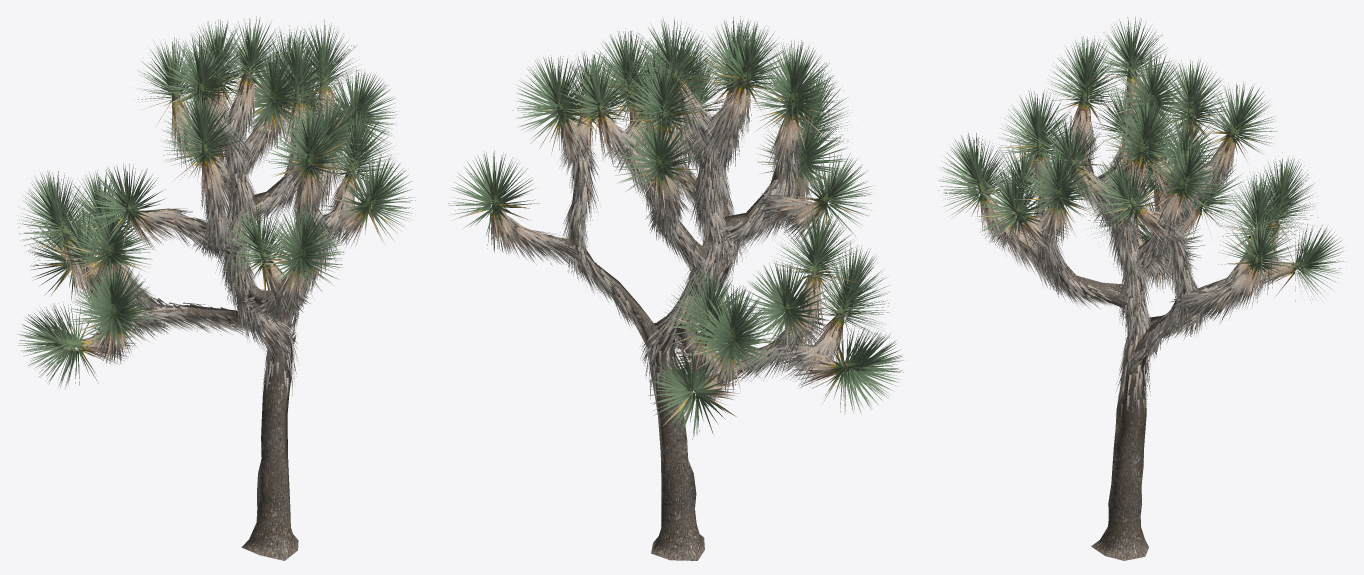
The model's file is Yucca brevifolia HD_Standard no flower mat 75_LOD3.fbx.
3 views of the same model, side by side, from view 1: azimuth 30°, elevation 25°; view 2: azimuth 150°, elevation 25°; view 3: azimuth 270°, elevation 25° (orthographic). The views are drawn at different scales.
Visible parts, largest first — view 1: Yucca_brevifolia_HD; view 2: Yucca_brevifolia_HD; view 3: Yucca_brevifolia_HD.
Boxes of the visible parts, x1,y1,x2,y2 form: Yucca_brevifolia_HD: [17, 16, 415, 560]; Yucca_brevifolia_HD: [448, 16, 903, 560]; Yucca_brevifolia_HD: [938, 17, 1346, 560].
Bounding box in the file's own units: 3.56 × 4.7 × 3.54.
6 materials, 6 textured.
